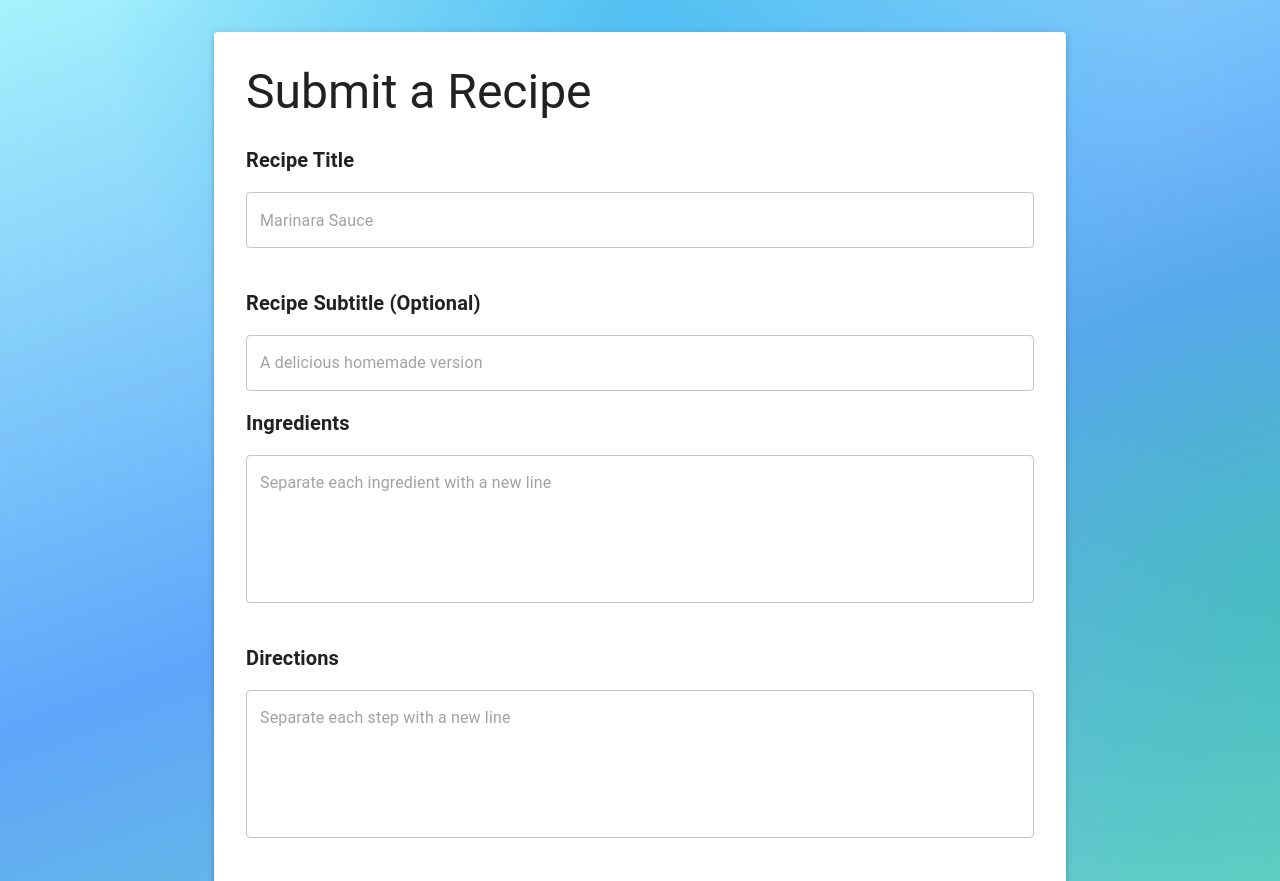
Test: Home - Recipe Submission Form › resets all fields when Reset button is clicked
The image size is (1280, 881).
Type "Chocolate Cake" into the field with placeholder "Marinara Sauce" at (640, 220), box [246,192,1034,248]
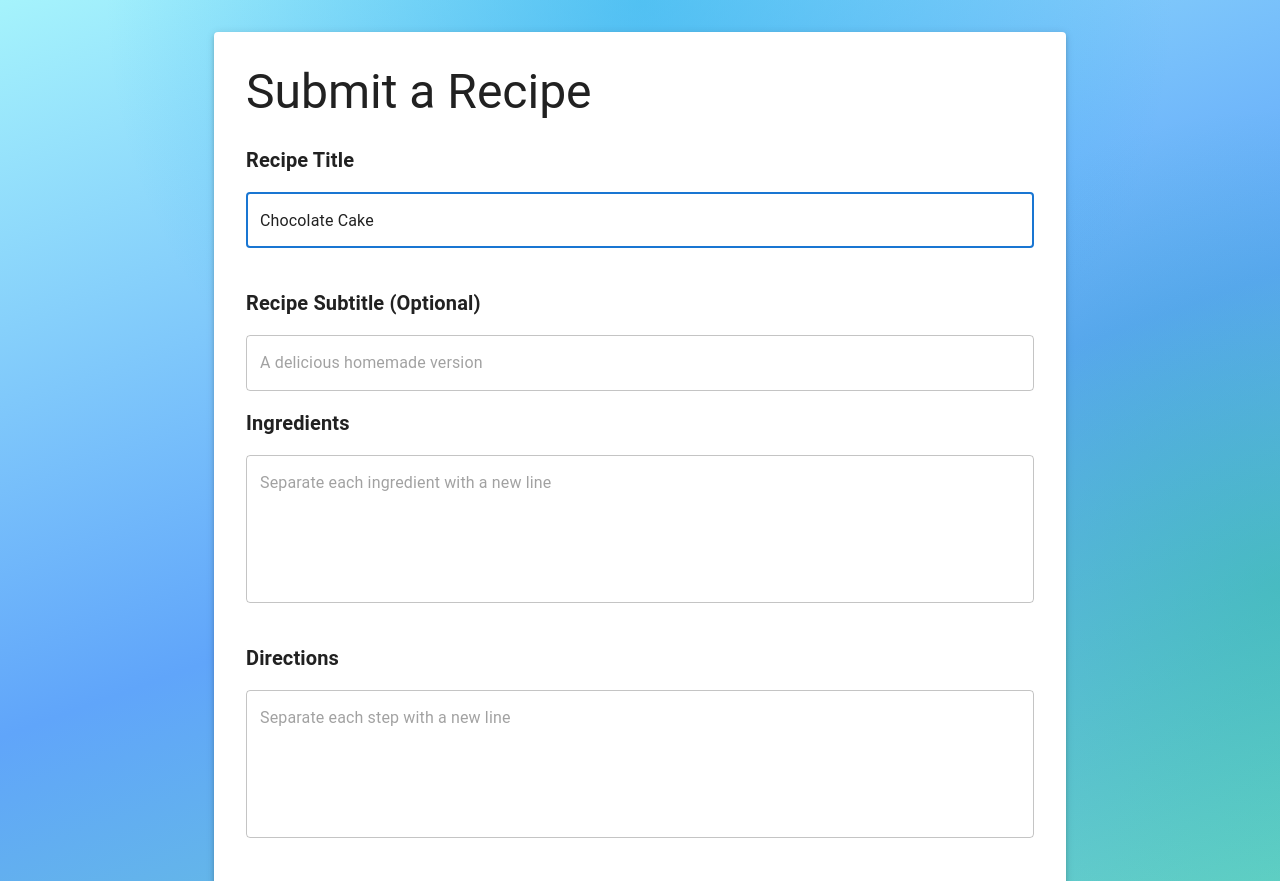
Type "A rich dessert" into the field with placeholder "A delicious homemade version" at (640, 363), box [246,335,1034,391]
(page scrolled)
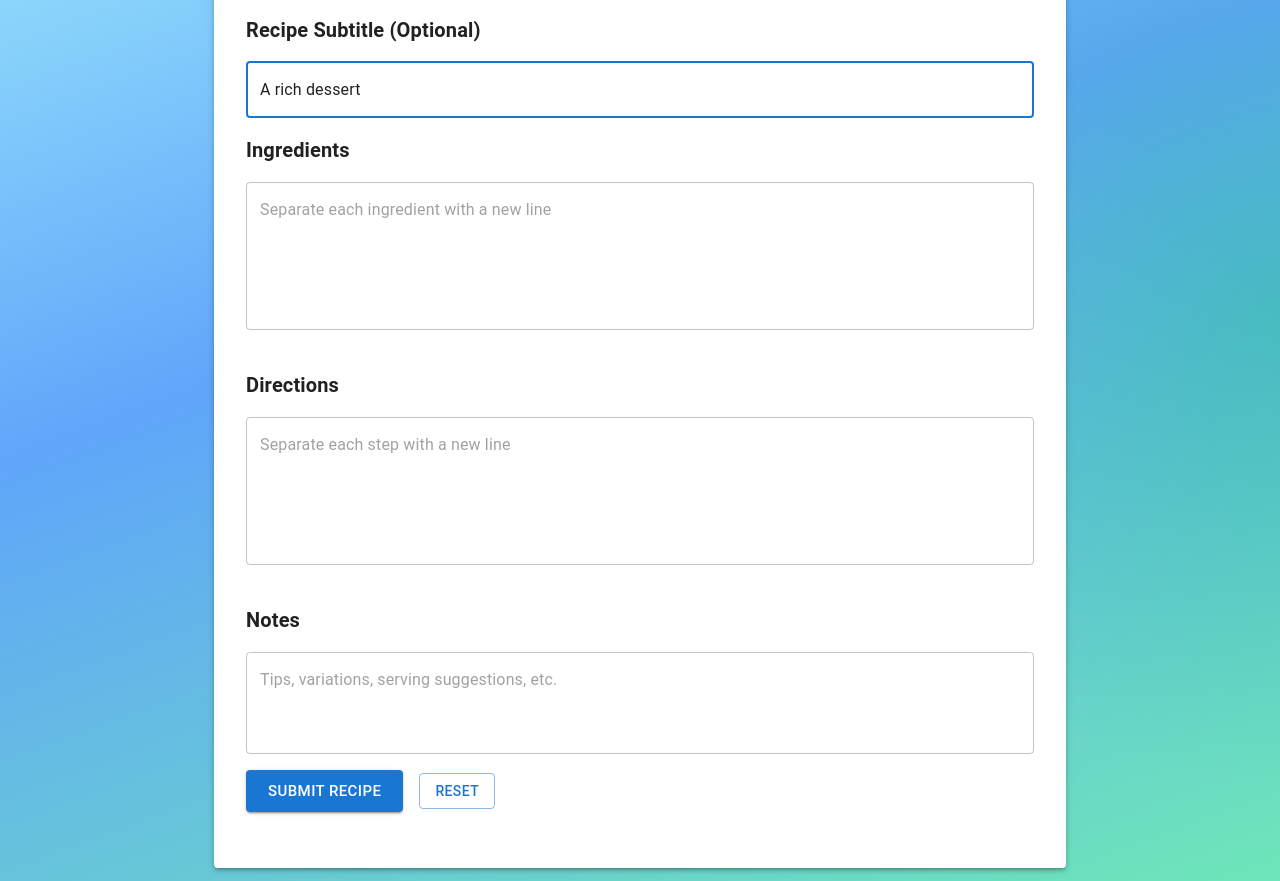
Click the button "Reset" at (457, 791), box [419,773,495,809]
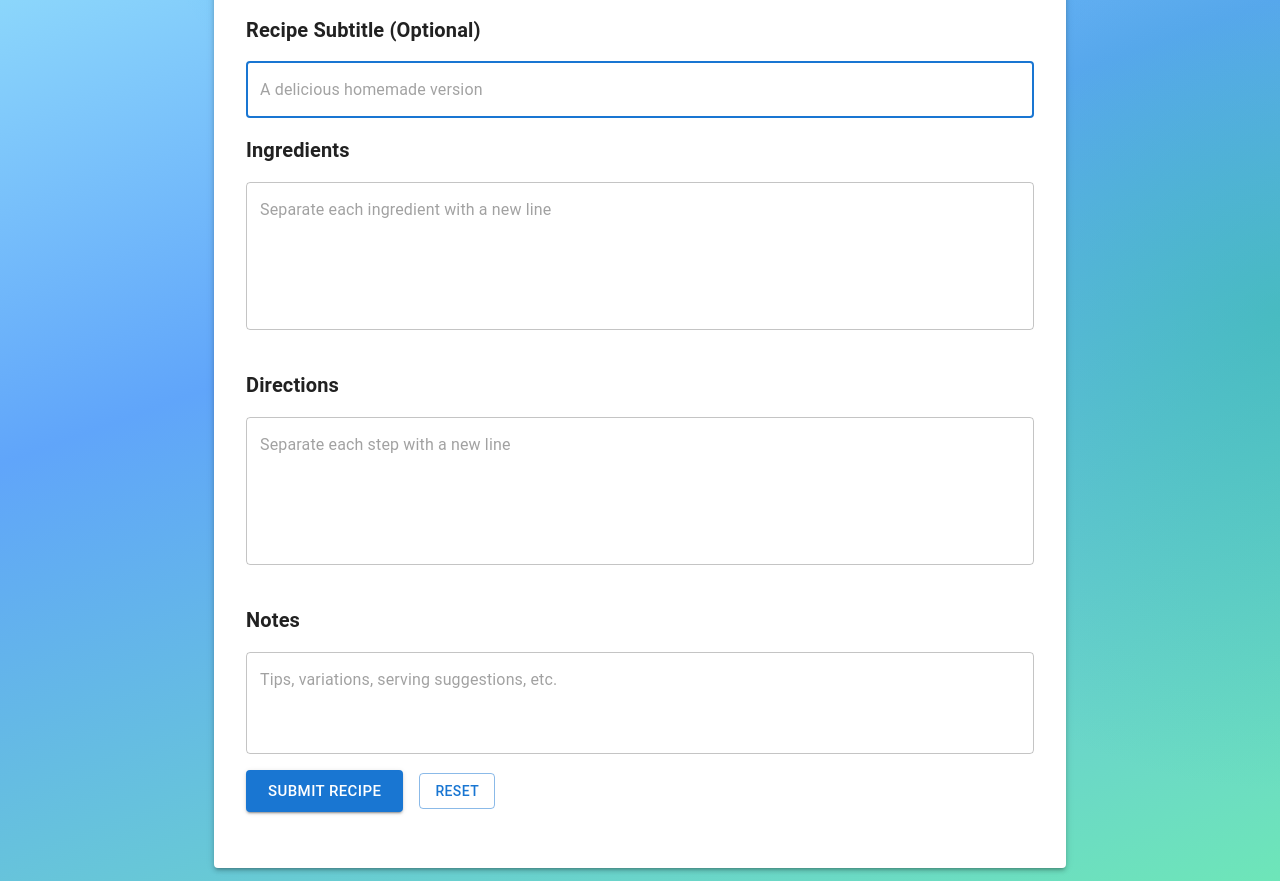
Check: the field with placeholder "A delicious homemade version" is empty, box [246,62,1034,118]
